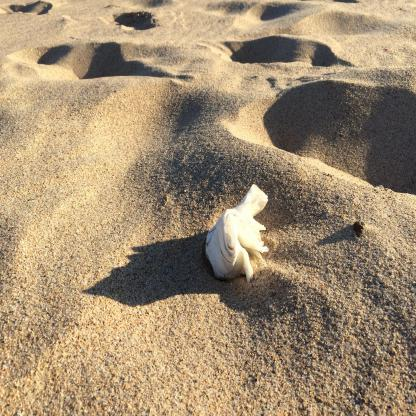diger: (205, 182, 269, 284)
